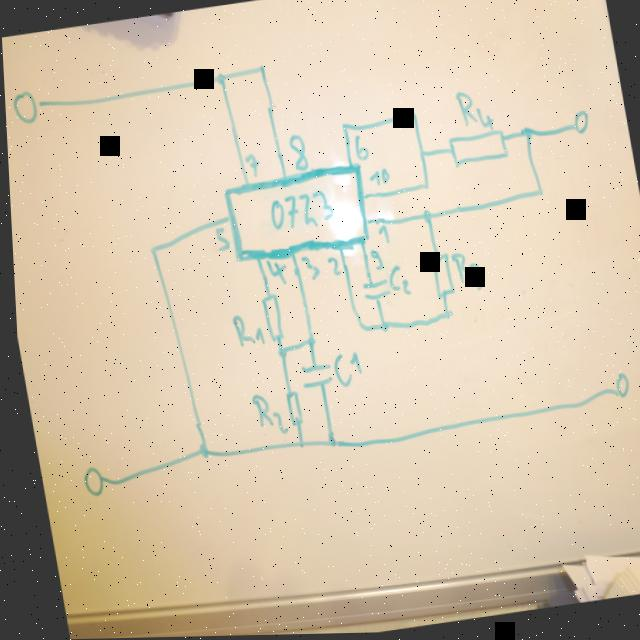capacitor: (293, 355, 331, 397), (356, 275, 388, 305)
junction: (516, 124, 534, 147), (318, 433, 336, 454), (190, 441, 207, 461), (415, 208, 431, 229), (298, 335, 313, 350), (287, 436, 302, 451), (437, 307, 451, 323), (372, 320, 386, 336), (271, 344, 285, 360), (213, 71, 226, 87), (349, 320, 362, 335), (413, 149, 426, 163), (337, 120, 349, 135), (254, 63, 266, 76), (532, 188, 544, 201), (144, 244, 156, 256), (419, 180, 428, 193), (407, 111, 417, 122)
resistor: (443, 128, 513, 171), (425, 252, 454, 303), (256, 291, 282, 343), (278, 387, 302, 430)
terminal: (9, 88, 44, 125), (75, 463, 104, 499), (602, 371, 629, 404), (566, 106, 592, 140)
text: (262, 186, 335, 237), (451, 86, 496, 135), (245, 389, 285, 440), (447, 250, 483, 294), (325, 349, 361, 390), (226, 312, 261, 349), (284, 132, 308, 173), (383, 265, 408, 298), (261, 258, 285, 288), (349, 132, 369, 163), (296, 254, 318, 282), (211, 225, 229, 254), (365, 166, 388, 188), (240, 151, 258, 179), (364, 248, 382, 272), (322, 255, 339, 278), (373, 224, 389, 246)
